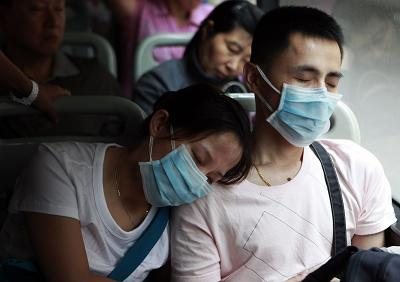NONE: (13, 1, 67, 56), (201, 27, 254, 83)
OK: (260, 63, 341, 144), (144, 132, 225, 210)
